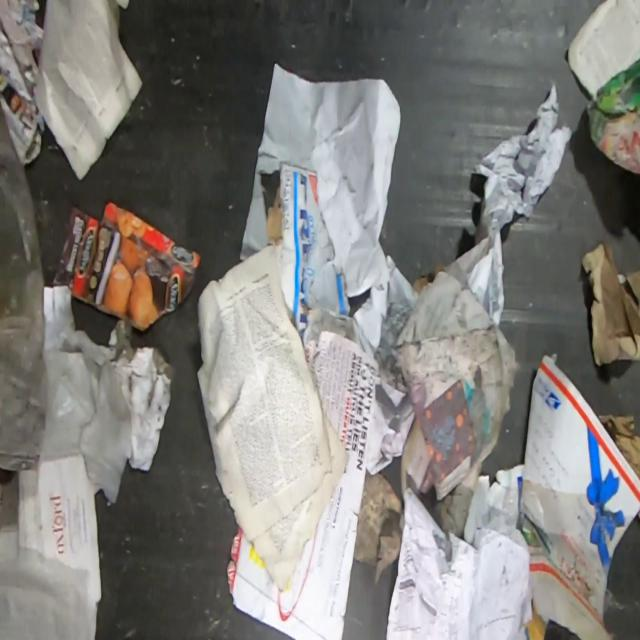cardboard: (518, 351, 640, 639), (49, 198, 202, 334), (261, 161, 352, 344), (590, 30, 640, 200), (597, 411, 640, 480)
soft_plastic: (0, 96, 55, 473)
